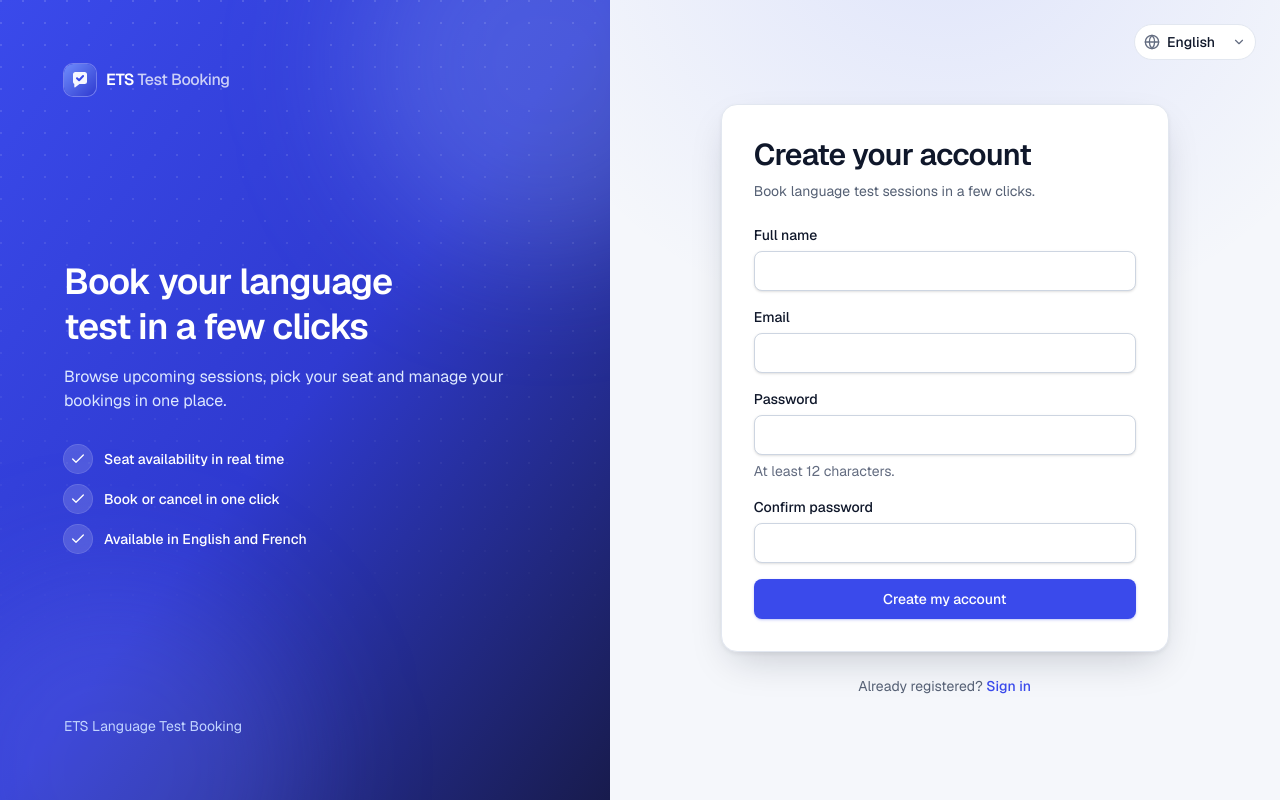
it: RegisterScreen › checks that both passwords match
The width and height of the screenshot is (1280, 800).
Type "Camille Martin" into the field labelled "Full name" at (945, 271), box x1=754 y1=251 x2=1136 y2=291
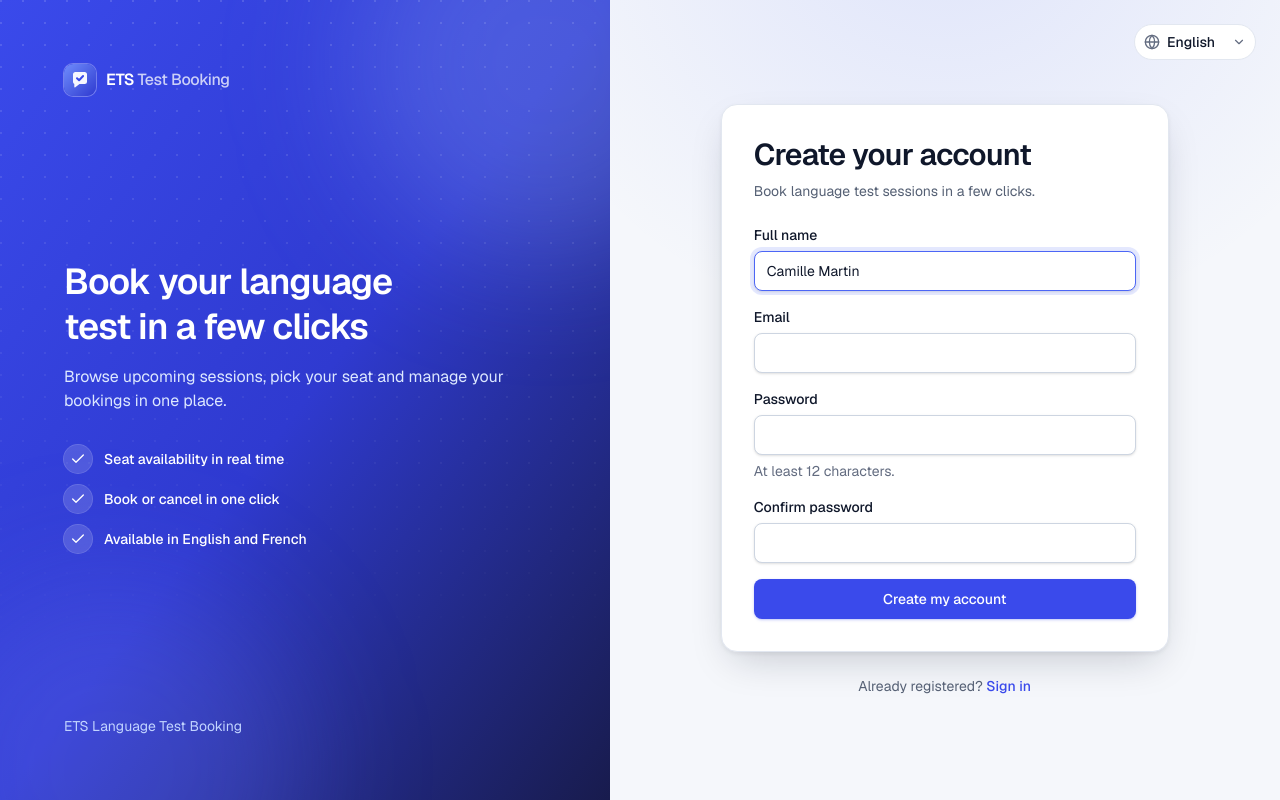
Type "camille@example.com" into the field labelled "Email" at (945, 353), box x1=754 y1=333 x2=1136 y2=373
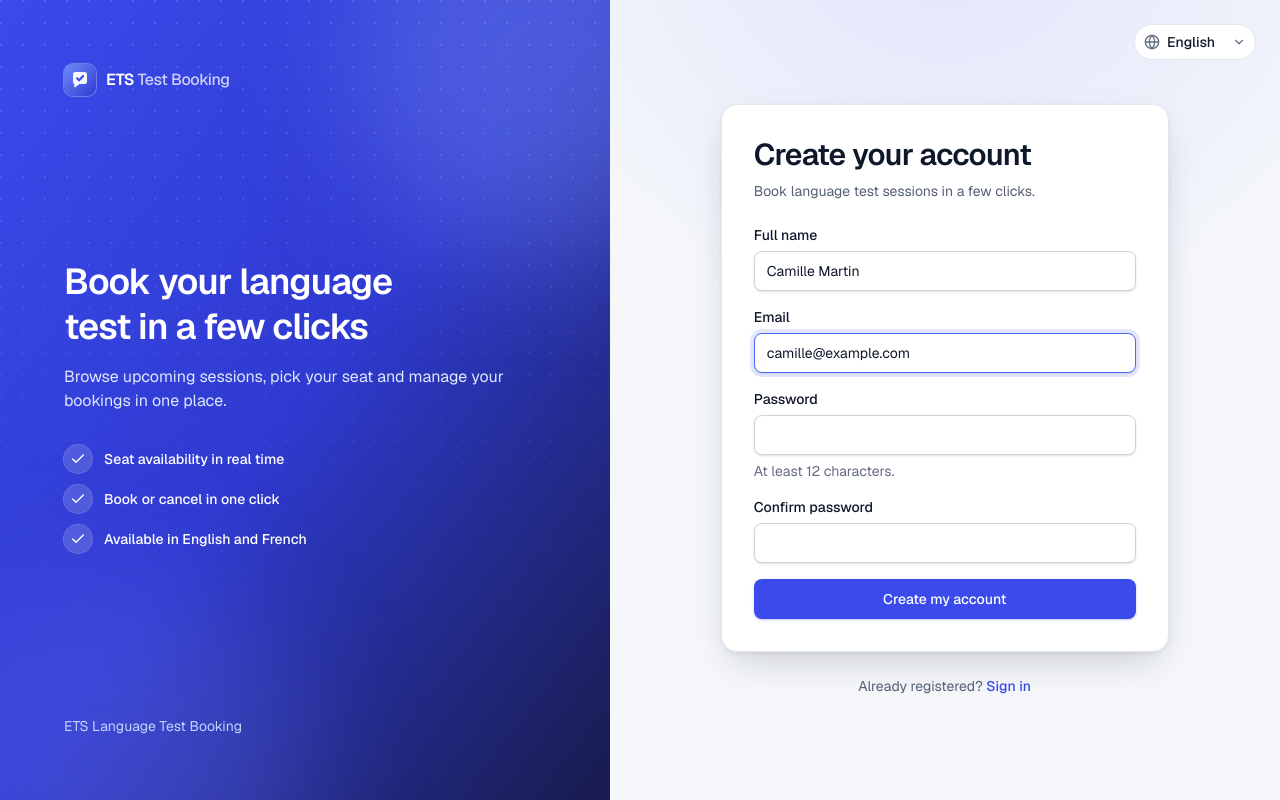
Type "S3cure-passw0rd" into the password field labelled "Password" at (945, 435), box x1=754 y1=415 x2=1136 y2=455
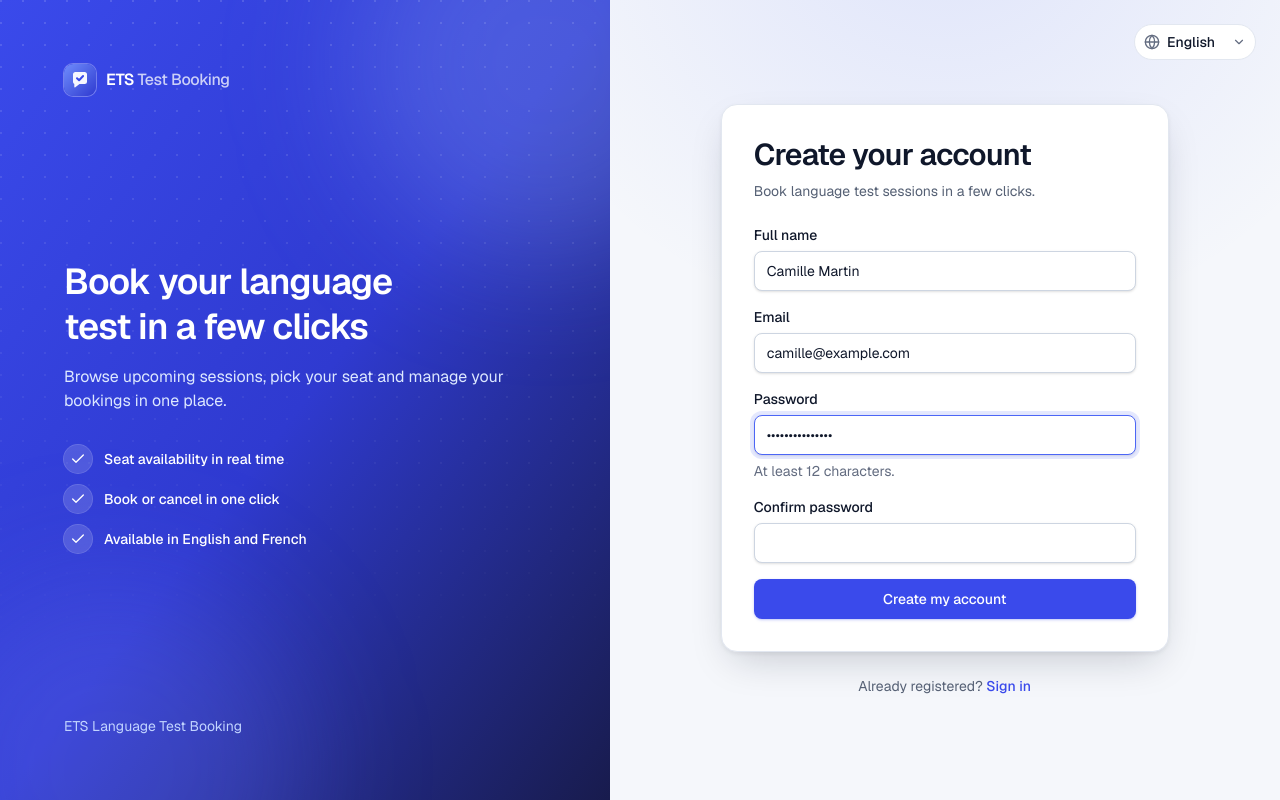
Type "something-else" into the password field labelled "Confirm password" at (945, 543), box x1=754 y1=523 x2=1136 y2=563
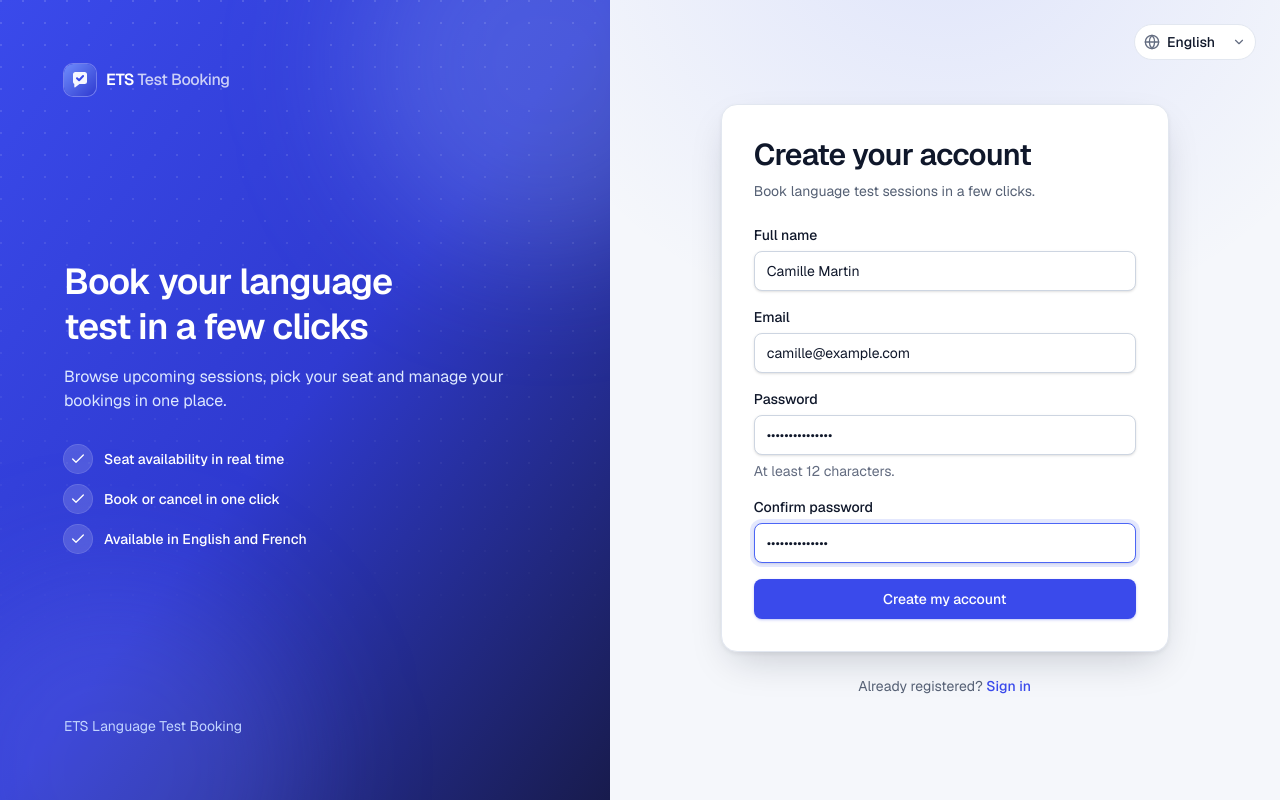
Click the button "Create my account" at (945, 599), box x1=754 y1=579 x2=1136 y2=619
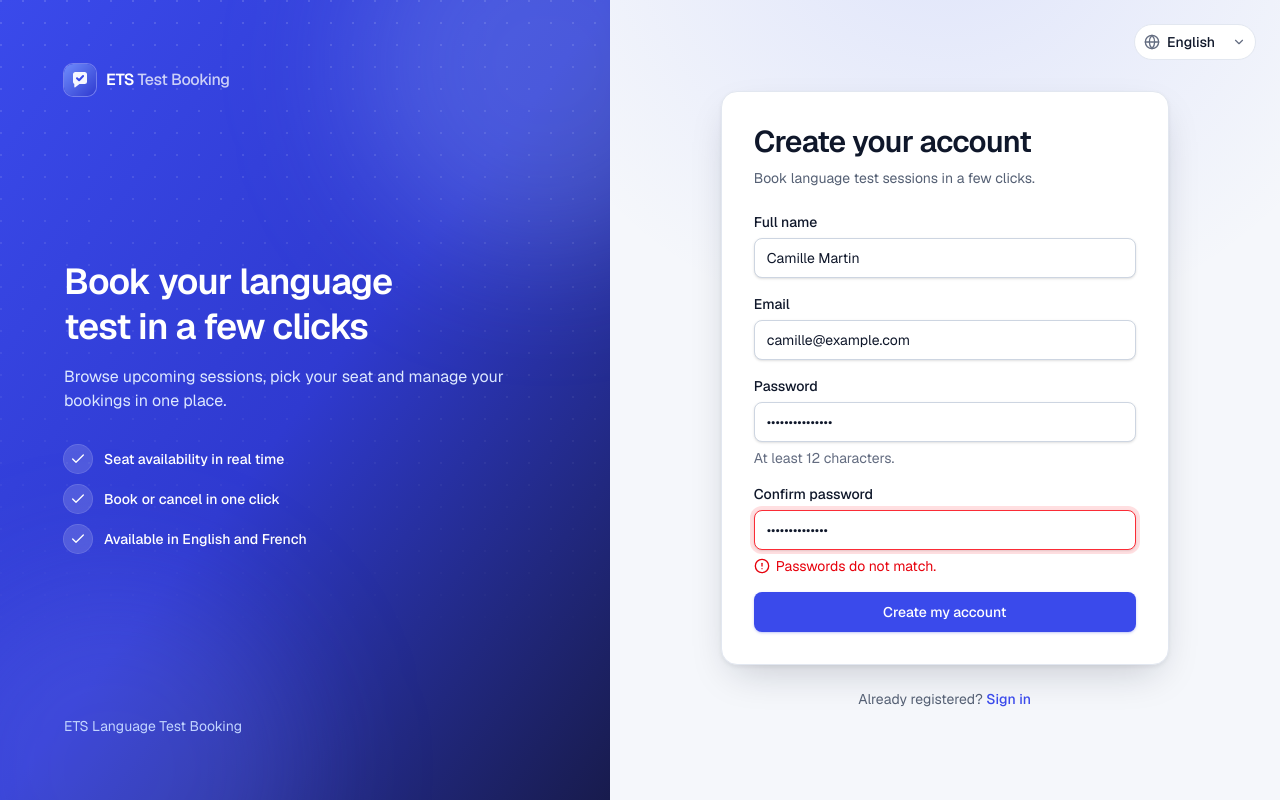
Check: the text "Passwords do not match." is shown, box x1=754 y1=557 x2=936 y2=575
